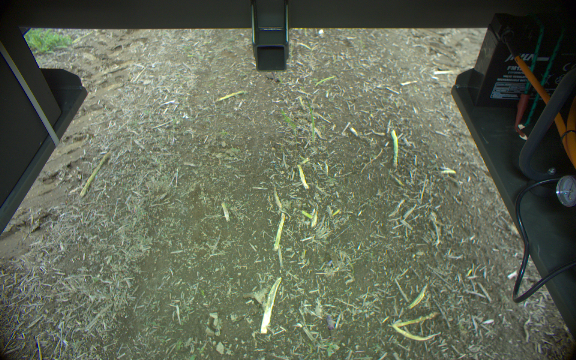aspa: (76, 149, 112, 196), (393, 311, 439, 327), (389, 129, 400, 169)
